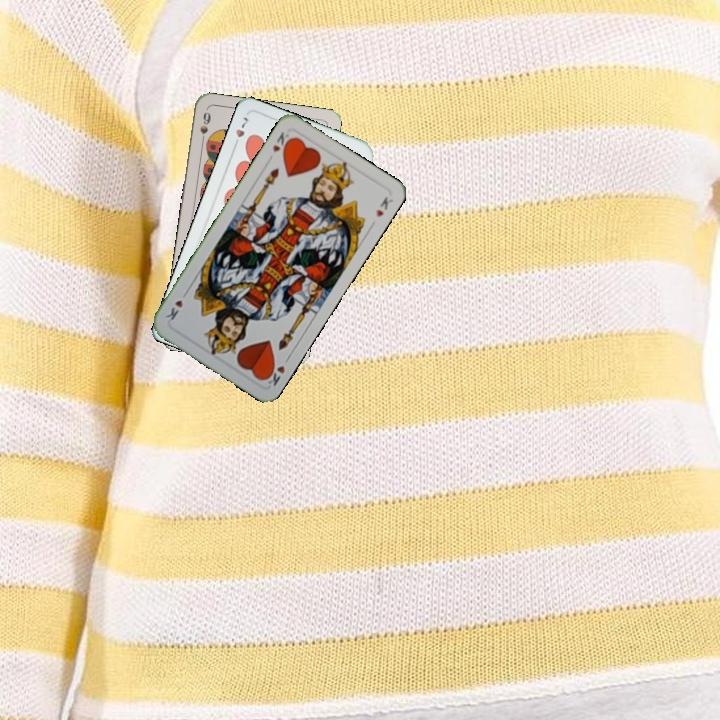H7: (230, 113, 251, 151)
HK: (260, 352, 293, 389), (269, 128, 294, 156)
S9: (196, 108, 213, 148)
